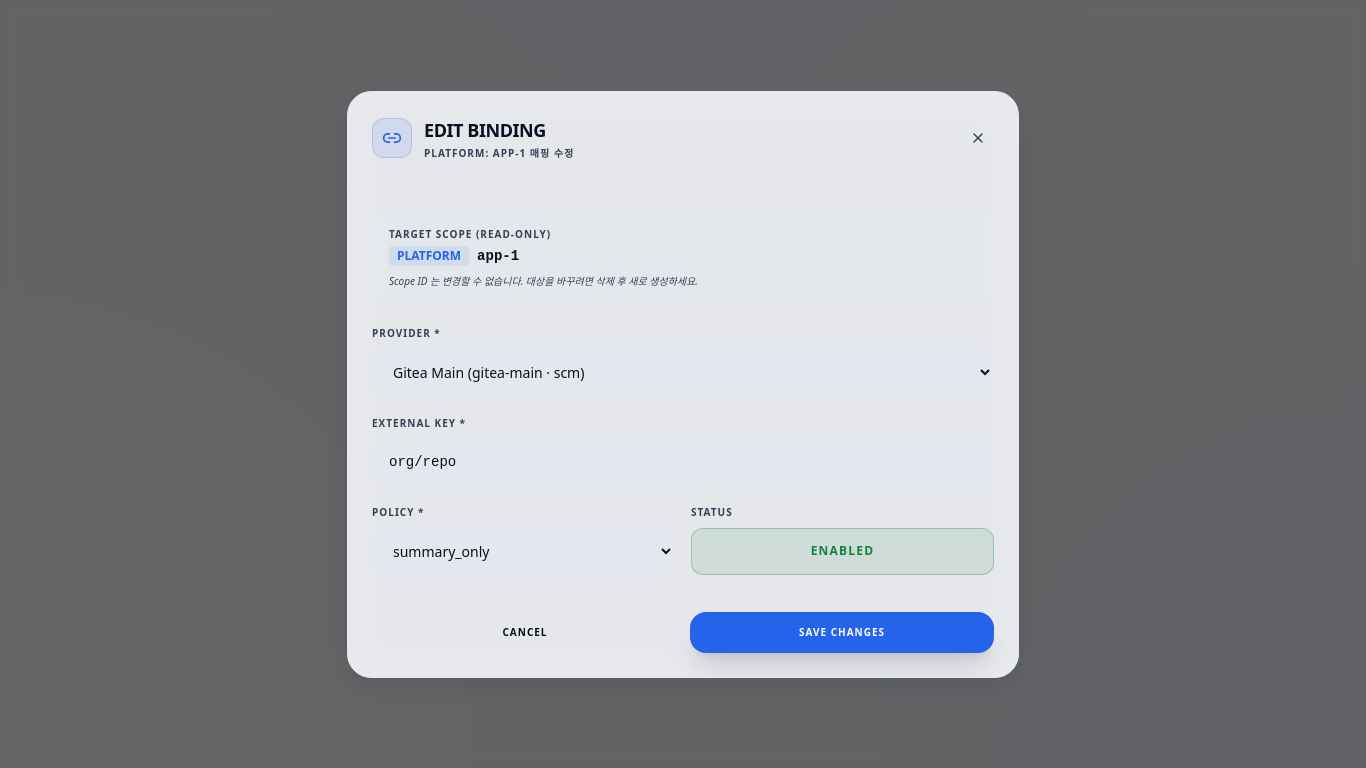
it: EditBindingModal › toggles enabled/disabled status button
The width and height of the screenshot is (1366, 768).
Click the button "Enabled" at (842, 551), box [691,528,994,574]
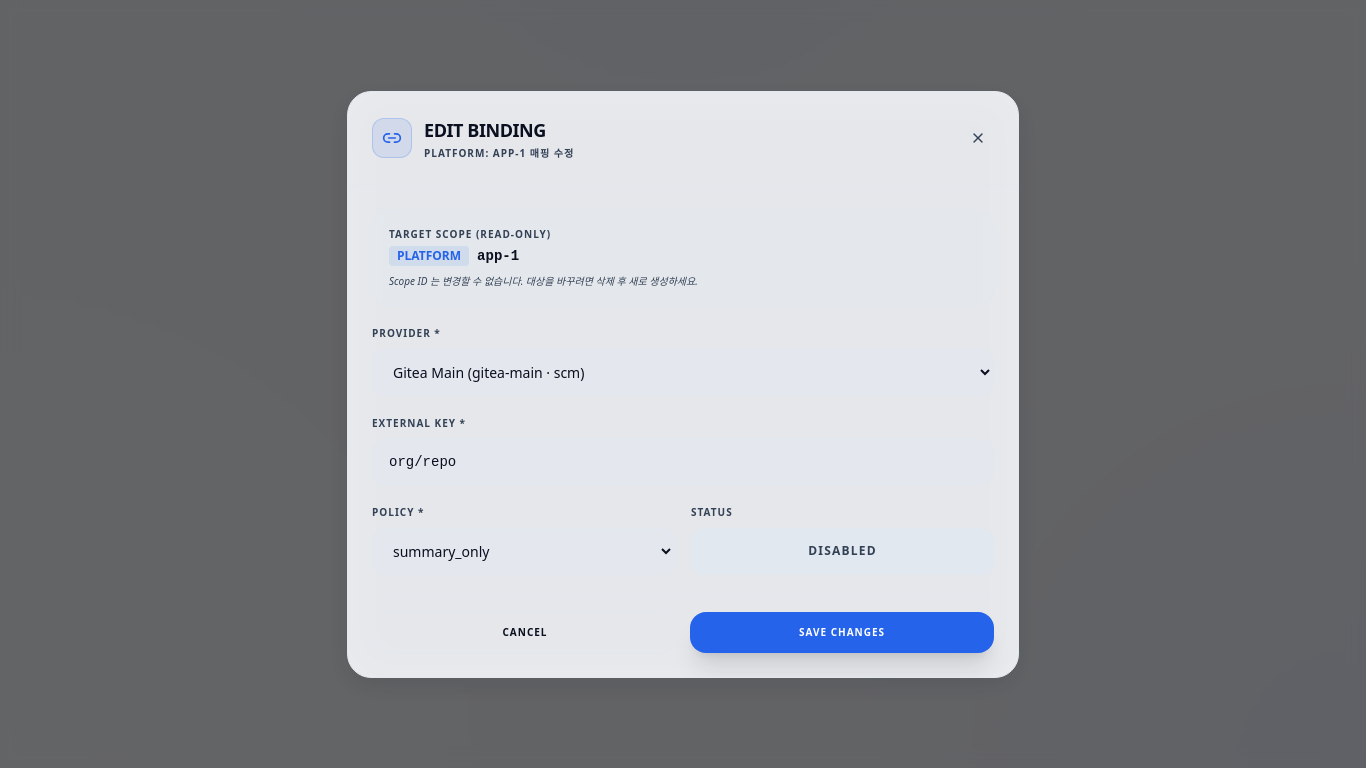
Check: the button "Disabled" is shown, box [691,528,994,574]
